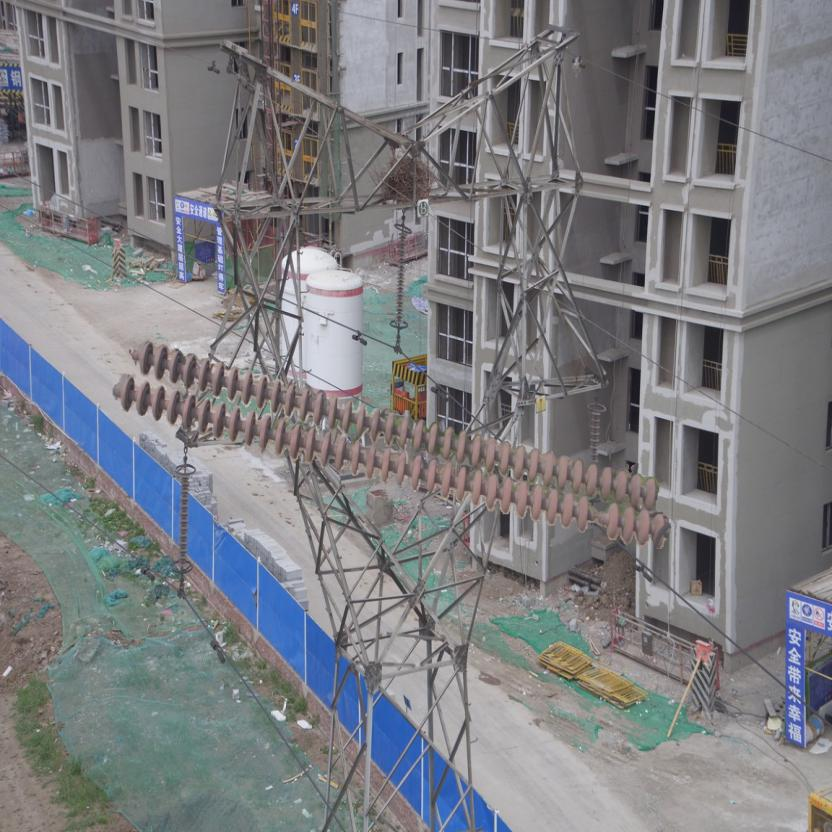defect: (571, 494, 623, 540)
